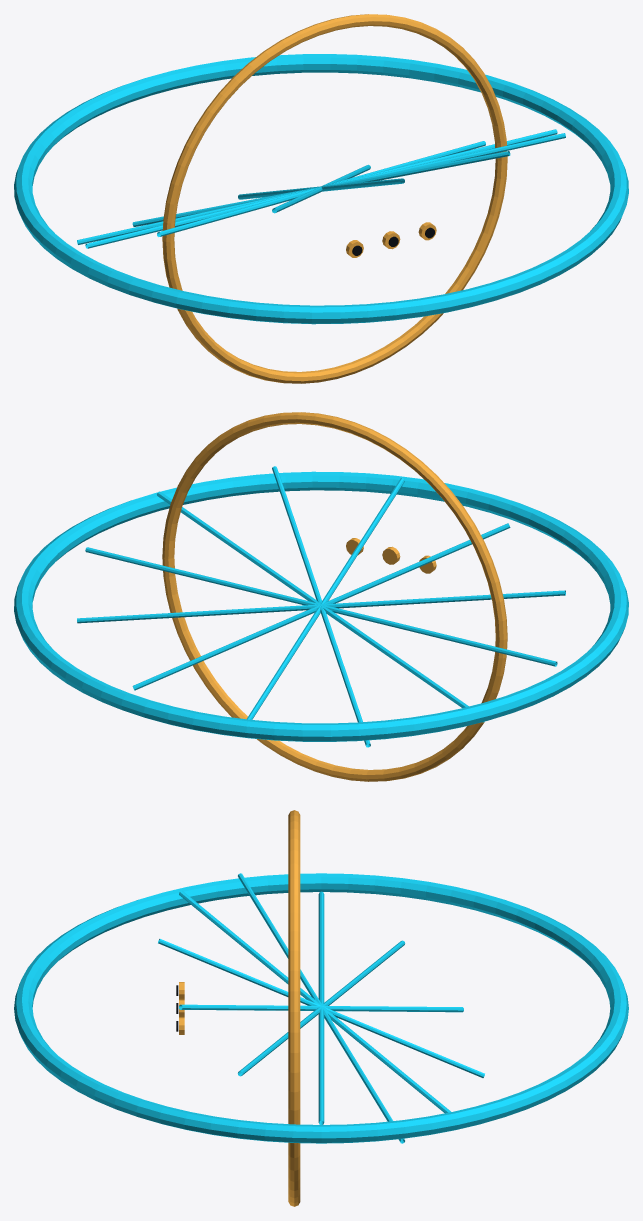
File: 14_L90_EarthMoonTransferDisplay.fbx
3 views of the same model, one above another, from view 1: azimuth 30°, elevation 25°; view 2: azimuth 150°, elevation 25°; view 3: azimuth 270°, elevation 25° (orthographic).
Visible parts, largest first — view 1: L90_EarthMoonTransferDisplay; view 2: L90_EarthMoonTransferDisplay; view 3: L90_EarthMoonTransferDisplay.
Boxes of the visible parts, <box> form: L90_EarthMoonTransferDisplay: <box>14,14,628,383</box>; L90_EarthMoonTransferDisplay: <box>14,412,628,781</box>; L90_EarthMoonTransferDisplay: <box>14,810,628,1206</box>.
Size of the model in its own units: 454 by 293 by 454.
